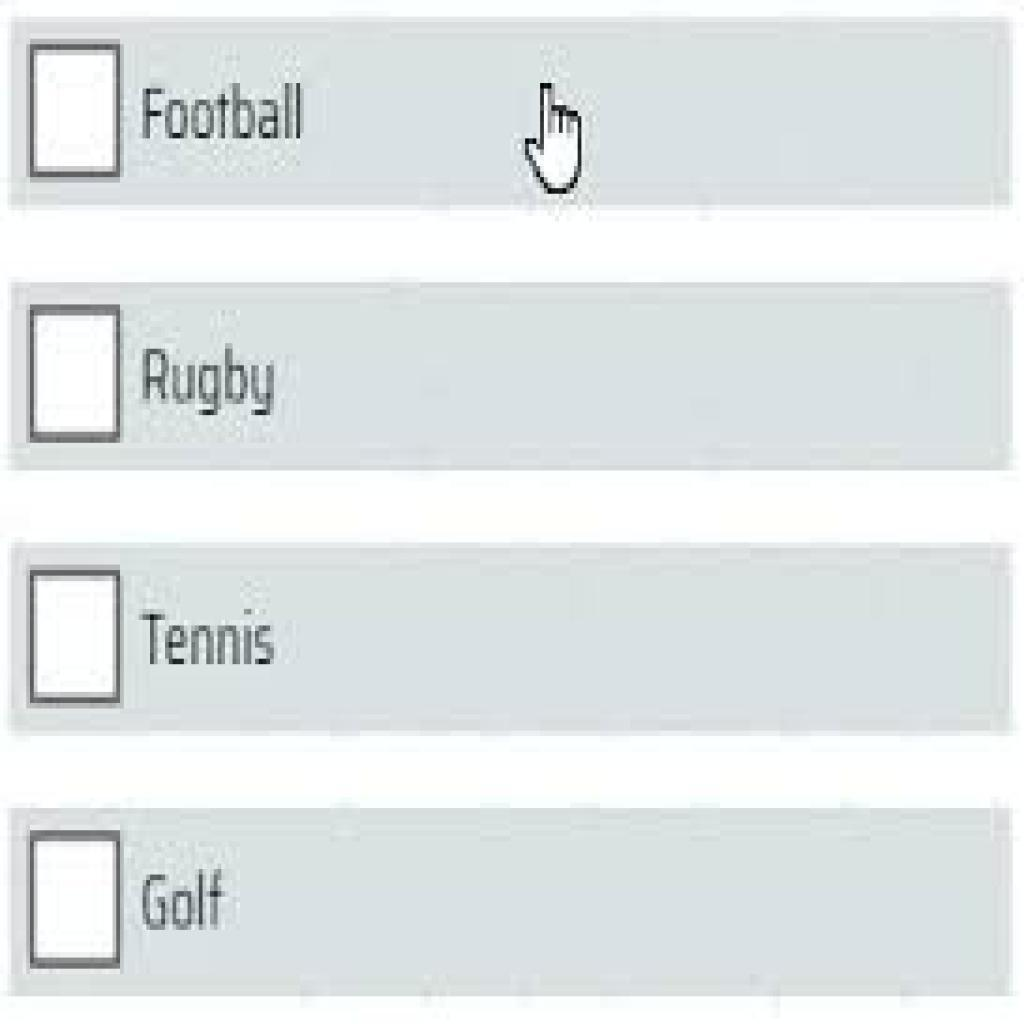checkbox: (31, 571, 119, 703), (35, 308, 121, 442), (31, 837, 122, 963), (32, 47, 120, 177)
label: (141, 79, 312, 151), (135, 341, 280, 417), (135, 607, 287, 677), (140, 866, 234, 938)
